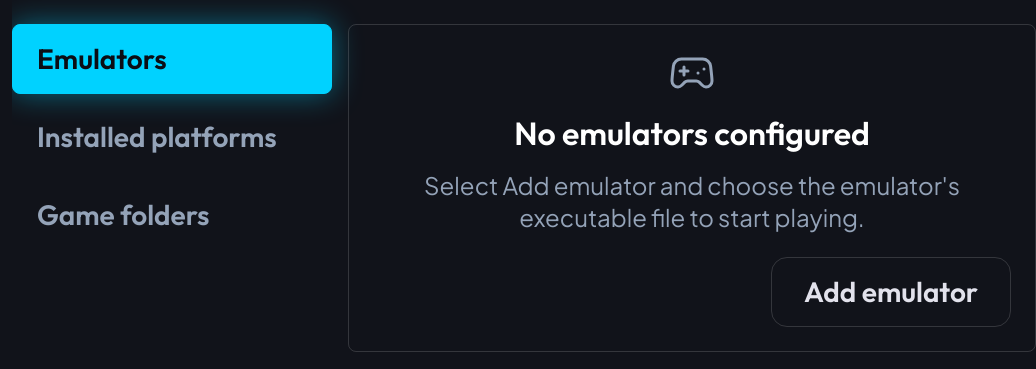
Scenario: SettingsScreen › takes the user to the emulators from the empty installed platforms
Press Arrowdown
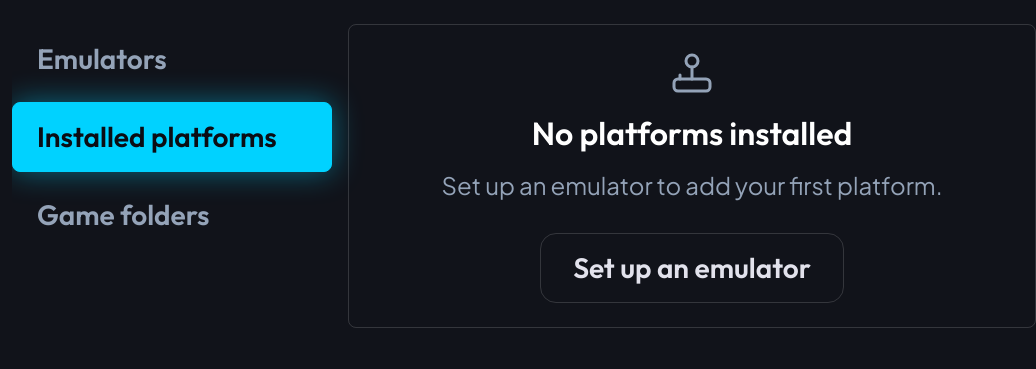
Click the button "Set up an emulator" at (692, 268), box [540, 233, 844, 303]
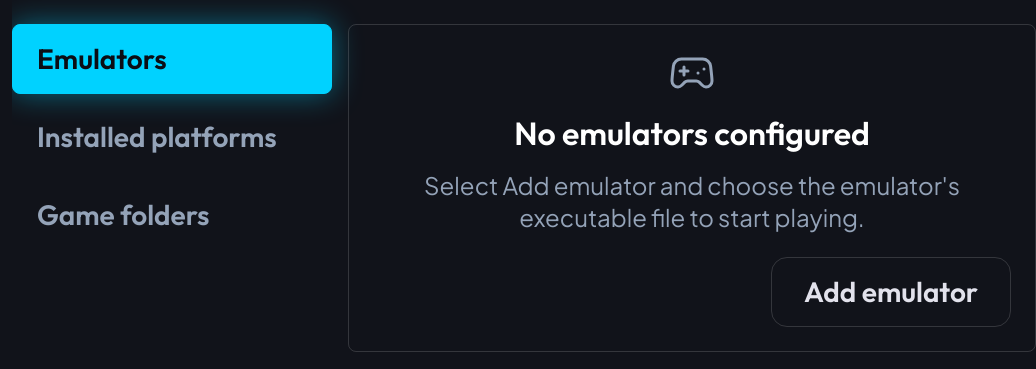
Now the heading "No emulators configured" is shown, box [514, 113, 870, 153]
